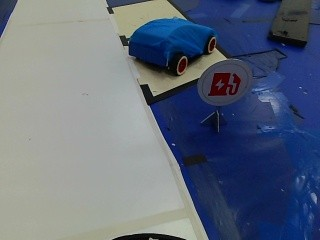battery: (198, 57, 251, 110)
car: (122, 14, 215, 71)
